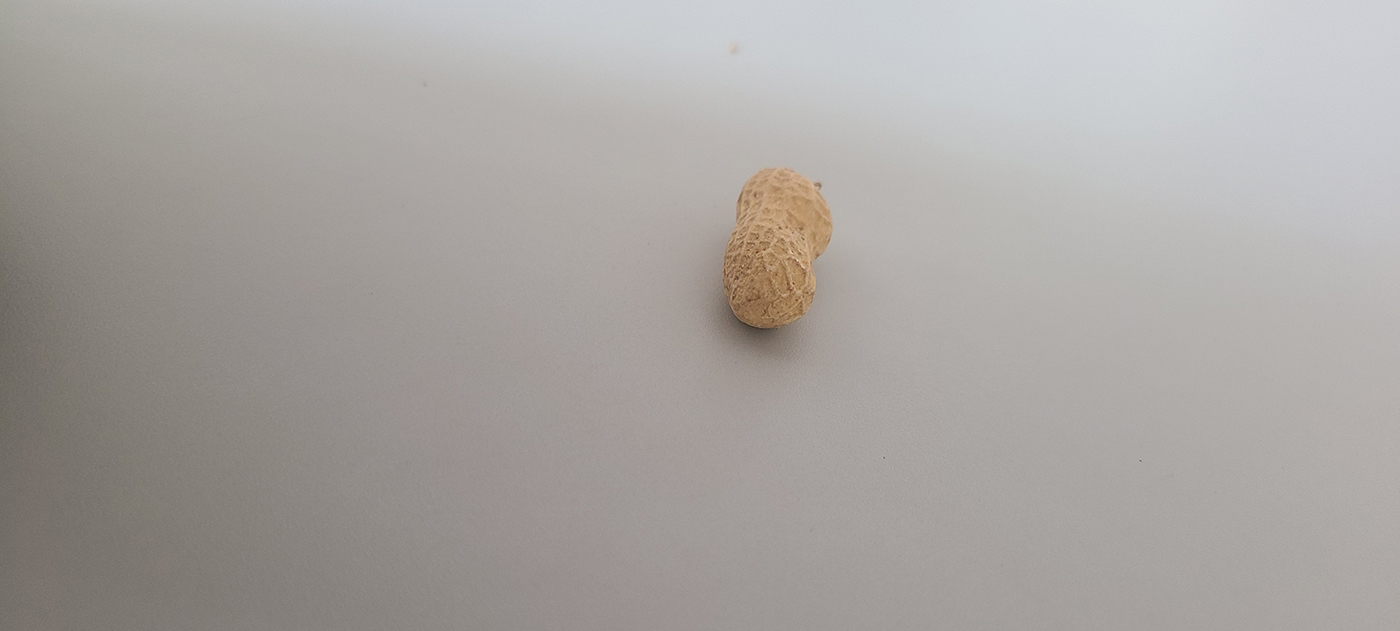h: (725, 169, 831, 325)
